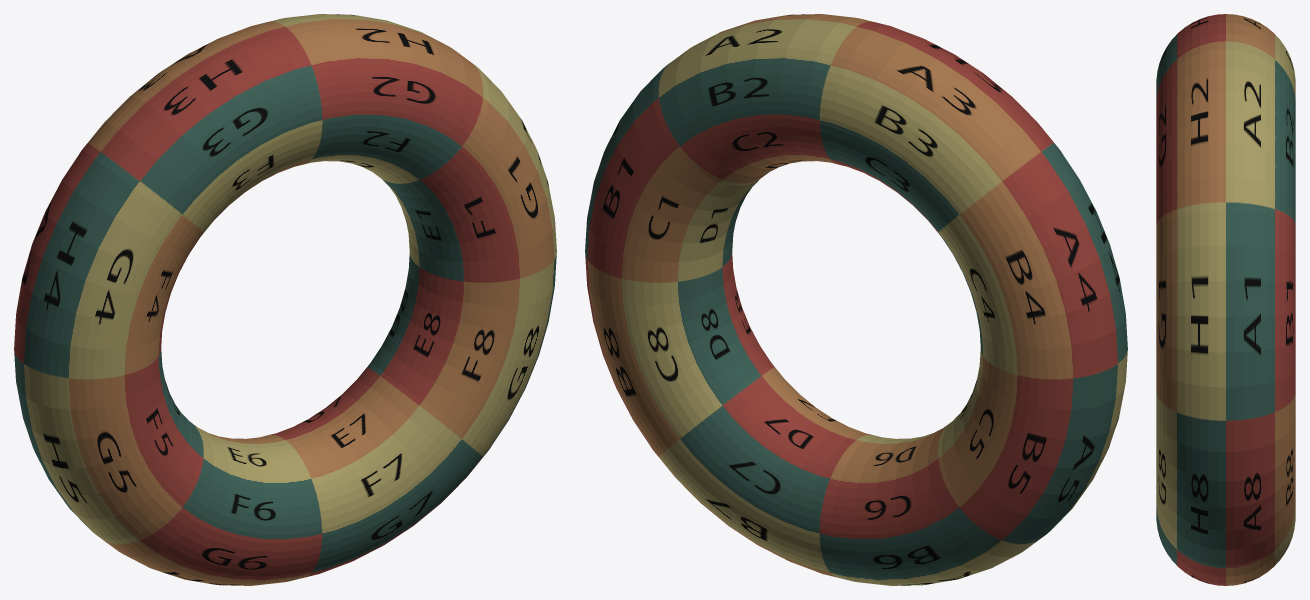
Rendered from texture_torus_R3_r7.glb.
The picture shows the model from 3 angles, left to right: view 1: azimuth 30°, elevation 25°; view 2: azimuth 150°, elevation 25°; view 3: azimuth 270°, elevation 25°; orthographic projection. The views are drawn at different scales.
Visible parts, largest first — view 1: world; view 2: world; view 3: world.
Part boxes in pixels (box(x1,y1,x2,y2)): world: box(14, 14, 556, 585); world: box(585, 14, 1127, 585); world: box(1156, 14, 1295, 585).
Bounding box in the file's own units: 15.87 × 15.84 × 3.86.
Materials: 1 (1 with a texture image).
